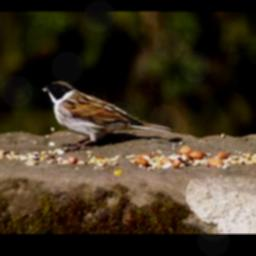Sparrow: (39, 79, 173, 150)
